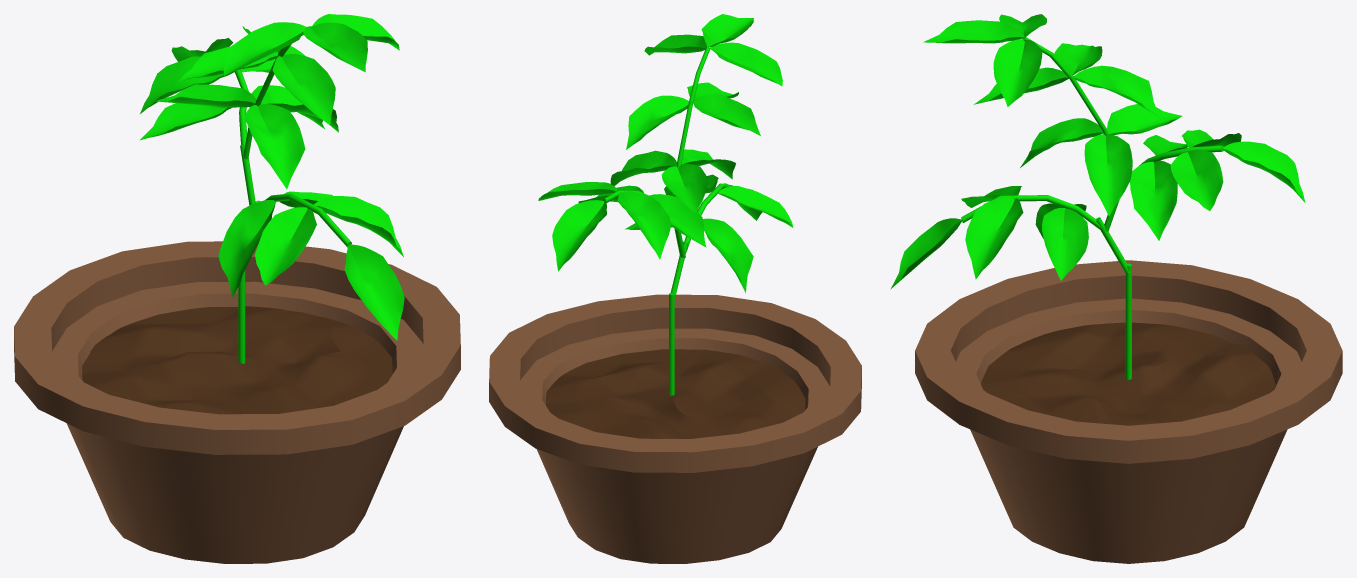
File: Potted Plant.fbx
The picture shows the model from 3 angles, left to right: view 1: azimuth 30°, elevation 25°; view 2: azimuth 150°, elevation 25°; view 3: azimuth 270°, elevation 25°; orthographic projection. The views are drawn at different scales.
Parts seen in each view (by area): view 1: revolvedSurface1, revolvedSurface2, pDisc1, pasted__pasted__pasted__pDisc2 (×5), pasted__pDisc2 (×2), pasted__pasted__pasted__pasted__pDisc2 (×3), pasted__pasted__pDisc2 (×3), pDisc2, pasted__pasted__pasted__pasted__pCylinder1, pCylinder1; view 2: revolvedSurface2, revolvedSurface1, pDisc1, pasted__pasted__pasted__pasted__pDisc2 (×5), pasted__pasted__pasted__pDisc2 (×5), pasted__pasted__pDisc2 (×3), pDisc2, pasted__pasted__pasted__pCylinder1, pCylinder1; view 3: revolvedSurface2, revolvedSurface1, pDisc1, pasted__pasted__pasted__pasted__pDisc2 (×5), pasted__pasted__pasted__pDisc2 (×5), pasted__pasted__pDisc2 (×3), pasted__pDisc2 (×2), pDisc2, pCylinder1, pasted__pasted__pasted__pasted__pCylinder1, pasted__pasted__pasted__pCylinder1.
Part boxes in pixels (box(x1,y1,x2,y2)): revolvedSurface1: box(52, 281, 422, 563); revolvedSurface2: box(14, 241, 460, 454); pDisc1: box(82, 306, 392, 414); pasted__pasted__pasted__pDisc2 (×5): box(140, 56, 403, 285); pasted__pDisc2 (×2): box(272, 54, 404, 340); pasted__pasted__pasted__pasted__pDisc2 (×3): box(140, 14, 399, 297); pasted__pasted__pDisc2 (×3): box(177, 22, 338, 132); pDisc2: box(303, 22, 367, 72); pasted__pasted__pasted__pasted__pCylinder1: box(264, 193, 351, 247); pCylinder1: box(238, 270, 245, 363); revolvedSurface2: box(489, 294, 861, 472); revolvedSurface1: box(520, 328, 830, 563); pDisc1: box(546, 349, 805, 438); pasted__pasted__pasted__pasted__pDisc2 (×5): box(552, 34, 753, 292); pasted__pasted__pasted__pDisc2 (×5): box(538, 149, 793, 259); pasted__pasted__pDisc2 (×3): box(610, 42, 782, 185); pDisc2: box(701, 14, 753, 47); pasted__pasted__pasted__pCylinder1: box(674, 47, 710, 197); pCylinder1: box(669, 292, 674, 395); revolvedSurface2: box(915, 260, 1342, 463); revolvedSurface1: box(956, 298, 1301, 563); pDisc1: box(981, 322, 1275, 425); pasted__pasted__pasted__pasted__pDisc2 (×5): box(993, 39, 1305, 280); pasted__pasted__pasted__pDisc2 (×5): box(965, 104, 1241, 279); pasted__pasted__pDisc2 (×3): box(999, 14, 1132, 216); pasted__pDisc2 (×2): box(890, 67, 1068, 289); pDisc2: box(923, 20, 1024, 43); pCylinder1: box(1125, 263, 1131, 379); pasted__pasted__pasted__pasted__pCylinder1: box(961, 195, 1101, 229); pasted__pasted__pasted__pCylinder1: box(1022, 36, 1108, 135).
Bounding box in the file's own units: 16.8 × 21.38 × 17.77.
